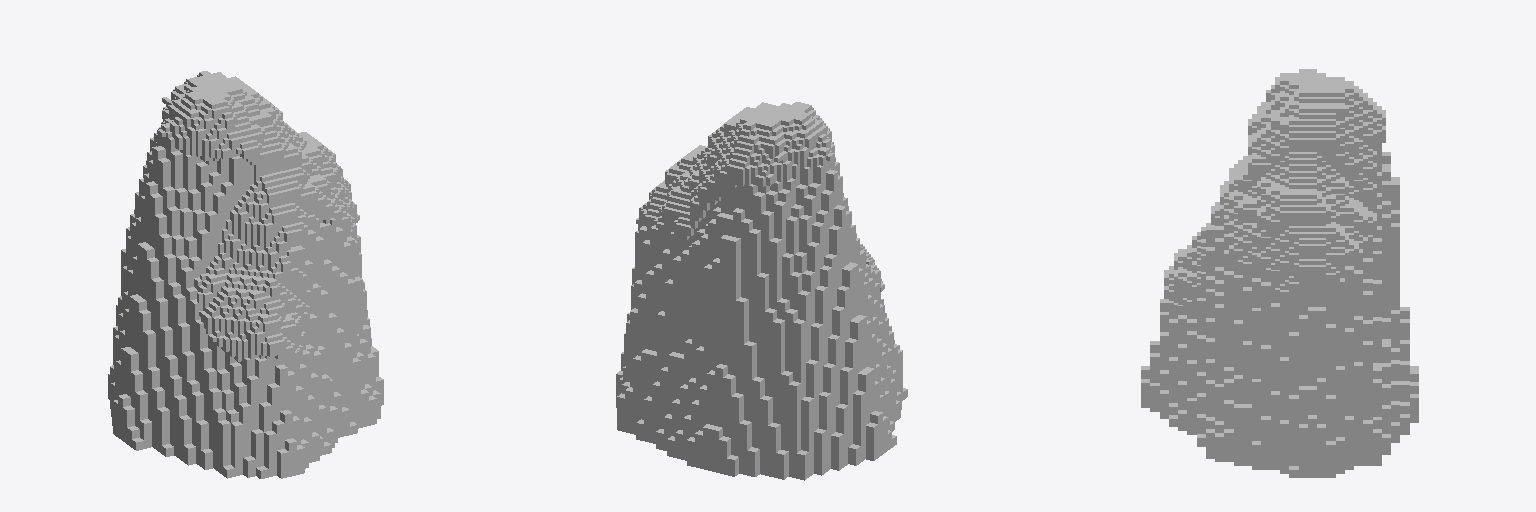
The model's file is Hora3.obj.
3 views of the same model, side by side, from view 1: azimuth 30°, elevation 25°; view 2: azimuth 150°, elevation 25°; view 3: azimuth 270°, elevation 25° (orthographic).
Visible parts, largest first — view 1: object 1; view 2: object 1; view 3: object 1.
Boxes of the visible parts, box(x1,y1,x2,y2) form: object 1: box(108, 71, 383, 478); object 1: box(616, 102, 907, 480); object 1: box(1141, 69, 1418, 477).
Bounding box in the file's own units: 6.2 × 7.7 × 6.